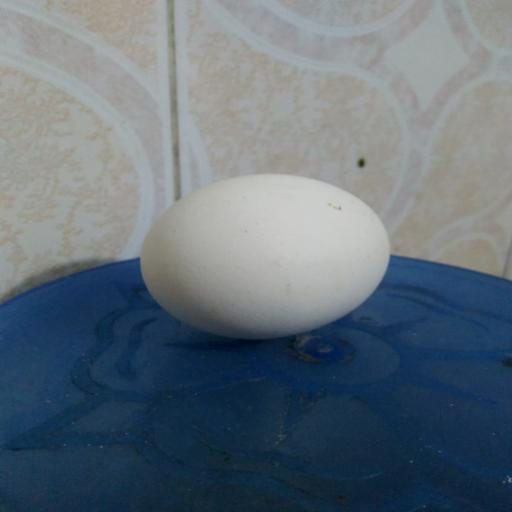telur: (130, 164, 397, 350)
